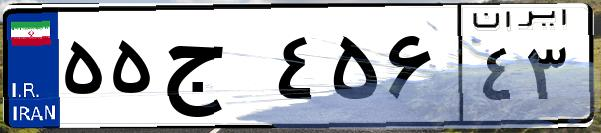3: (525, 38, 570, 115)
4: (270, 28, 330, 110), (475, 38, 525, 113)
5: (330, 28, 385, 110), (57, 26, 110, 100), (110, 28, 158, 98)
6: (385, 28, 445, 110)
ج: (158, 20, 270, 120)
